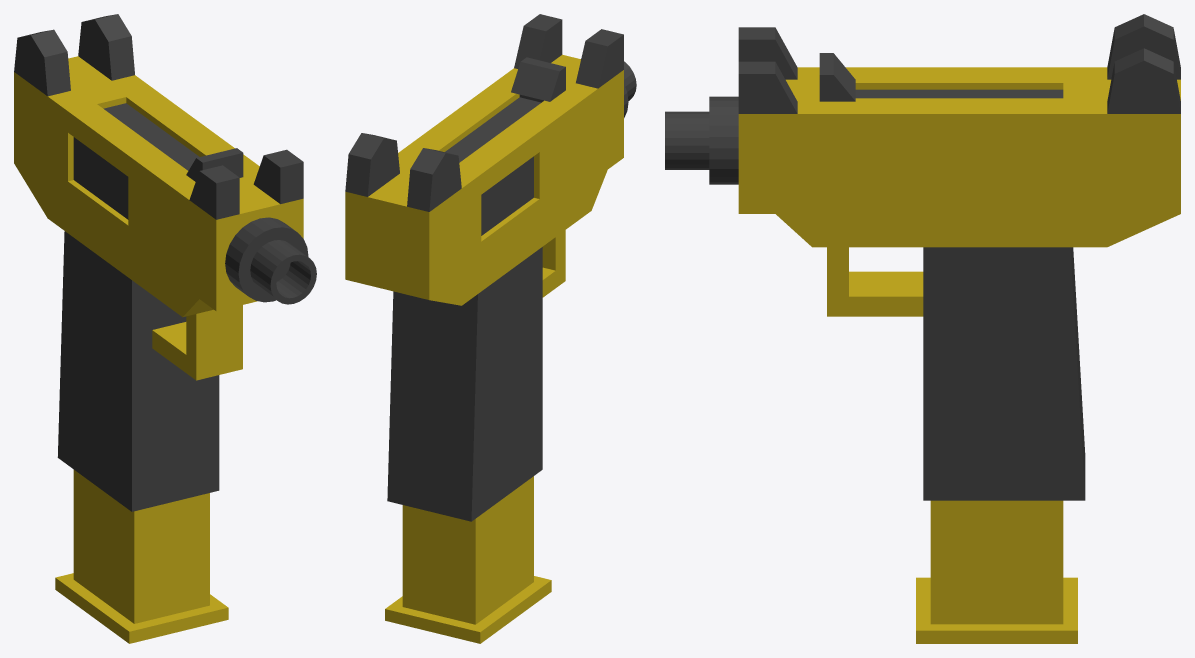
The model's file is uziGold.obj.
The picture shows the model from 3 angles, left to right: view 1: azimuth 30°, elevation 25°; view 2: azimuth 150°, elevation 25°; view 3: azimuth 270°, elevation 25°; orthographic projection. The views are drawn at different scales.
Visible parts, largest first — view 1: Mesh1_Gold, Mesh1_Gray8; view 2: Mesh1_Gold, Mesh1_Gray8; view 3: Mesh1_Gold, Mesh1_Gray8.
Part boxes in pixels (<box>): Mesh1_Gold: <box>14,56,303,643</box>; Mesh1_Gray8: <box>14,14,316,511</box>; Mesh1_Gold: <box>345,54,623,643</box>; Mesh1_Gray8: <box>345,14,636,521</box>; Mesh1_Gold: <box>738,67,1180,643</box>; Mesh1_Gray8: <box>665,14,1180,500</box>.
Size of the model in its own units: 0.0102 by 0.0522 by 0.0421.
